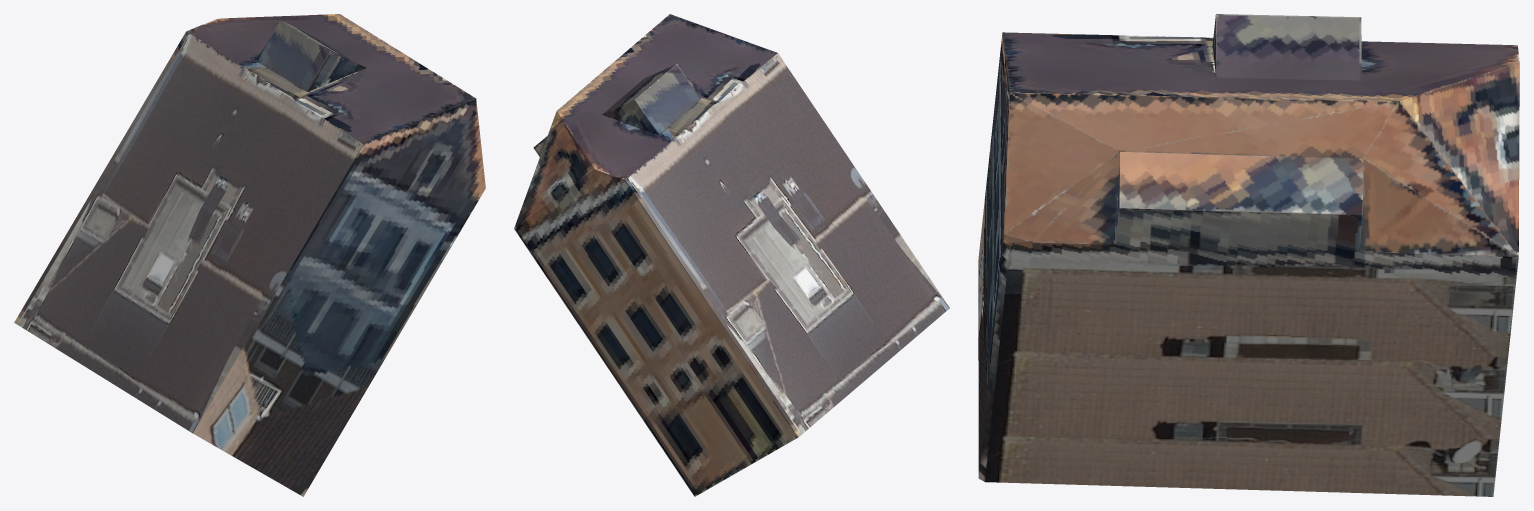
3 renders of one model, left to right at view 1: azimuth 30°, elevation 25°; view 2: azimuth 150°, elevation 25°; view 3: azimuth 270°, elevation 25°, orthographic. The views are drawn at different scales.
Visible parts, largest first — view 1: BAG_0599100000688730 (×4); view 2: BAG_0599100000688730 (×6); view 3: BAG_0599100000688730 (×5).
Part boxes in pixels (left/top/right/bottom): BAG_0599100000688730 (×4): left=14, top=14, right=485, bottom=496; BAG_0599100000688730 (×6): left=514, top=14, right=949, bottom=496; BAG_0599100000688730 (×5): left=978, top=14, right=1519, bottom=496.
Size of the model in its own units: 13.86 by 14.87 by 12.92.
5 materials, 5 textured.
